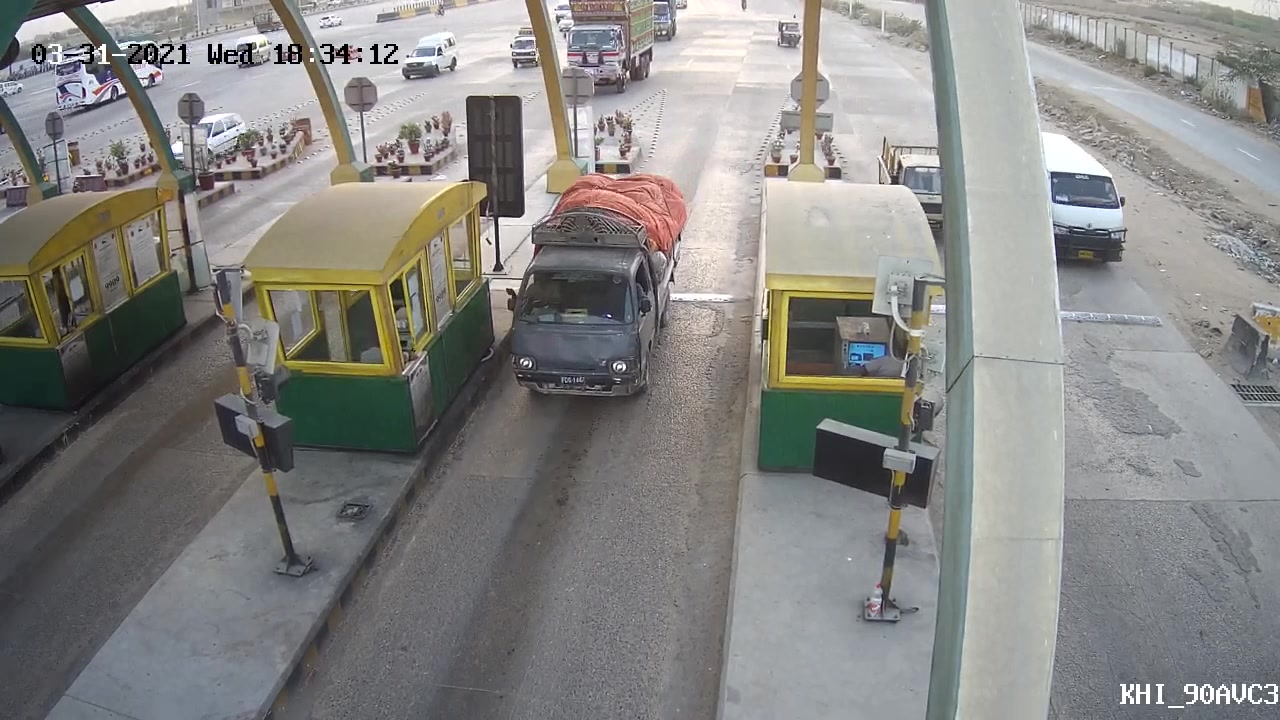F2: (495, 162, 688, 415)
